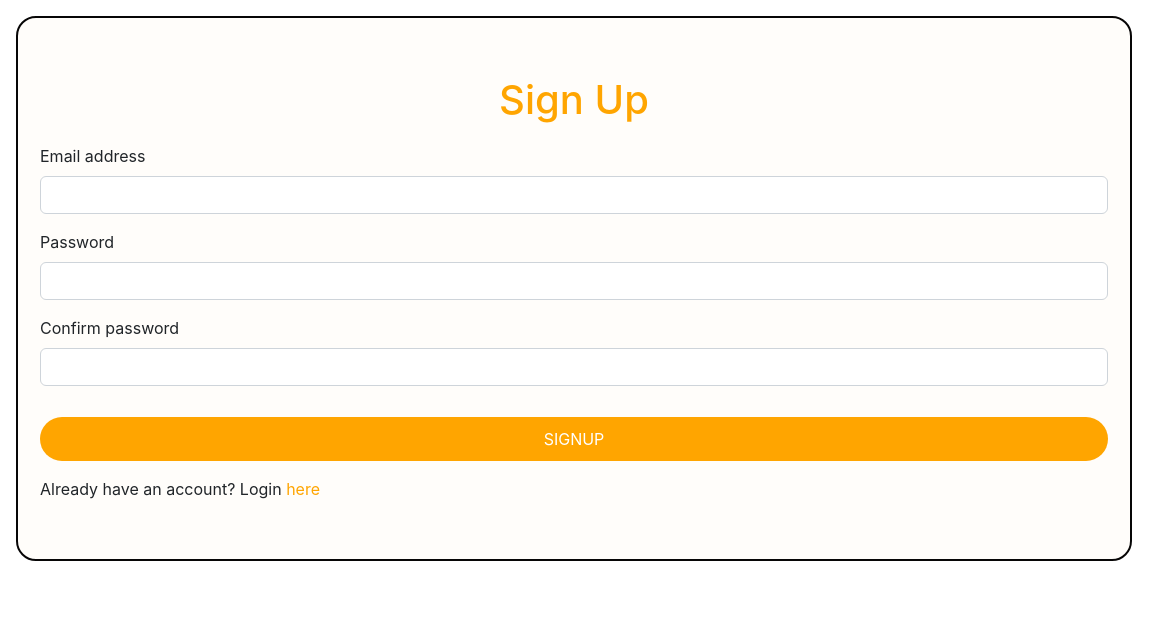
Scenario: App › Error handling › should show confirm password error when passwords dont match
Type "nael@gmail.com" into the field labelled "Email address" at {"x": 574, "y": 195}, box 40,176 -> 1108,214
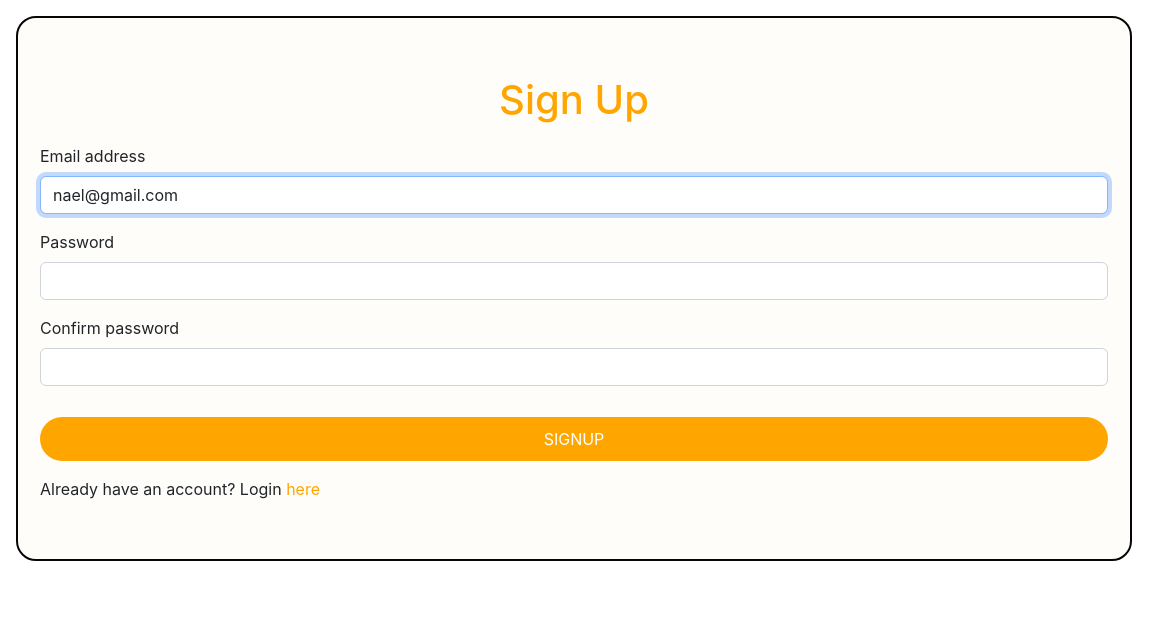
Type "12345678" into the password field labelled "Password" at {"x": 574, "y": 281}, box 40,262 -> 1108,300
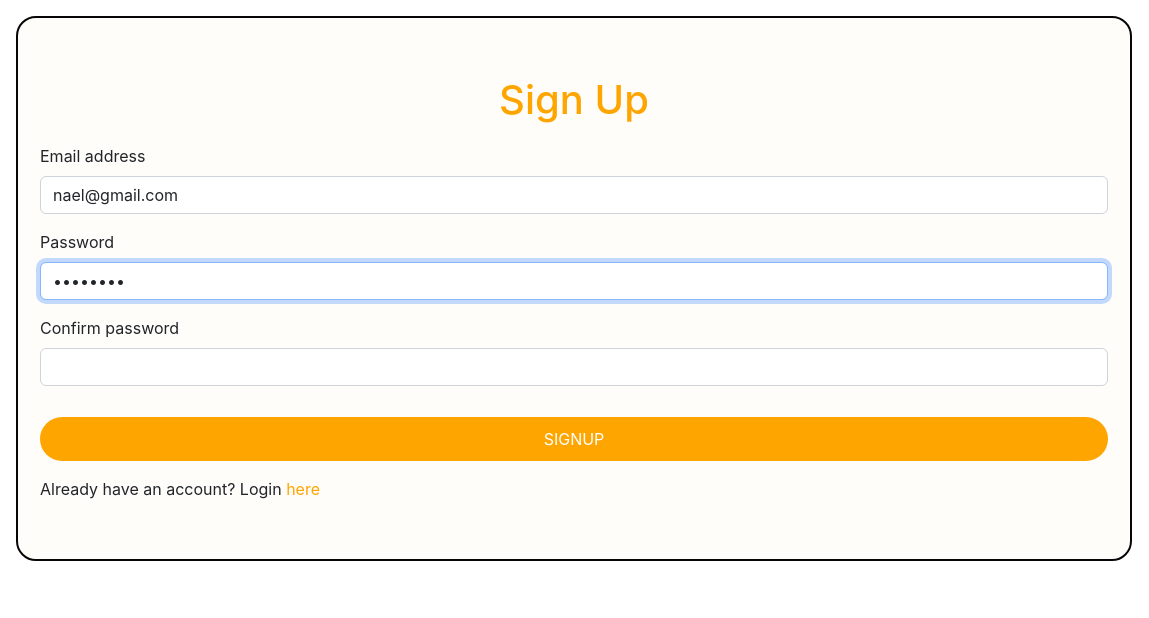
Type "12345" into the password field labelled "Confirm password" at {"x": 574, "y": 367}, box 40,348 -> 1108,386
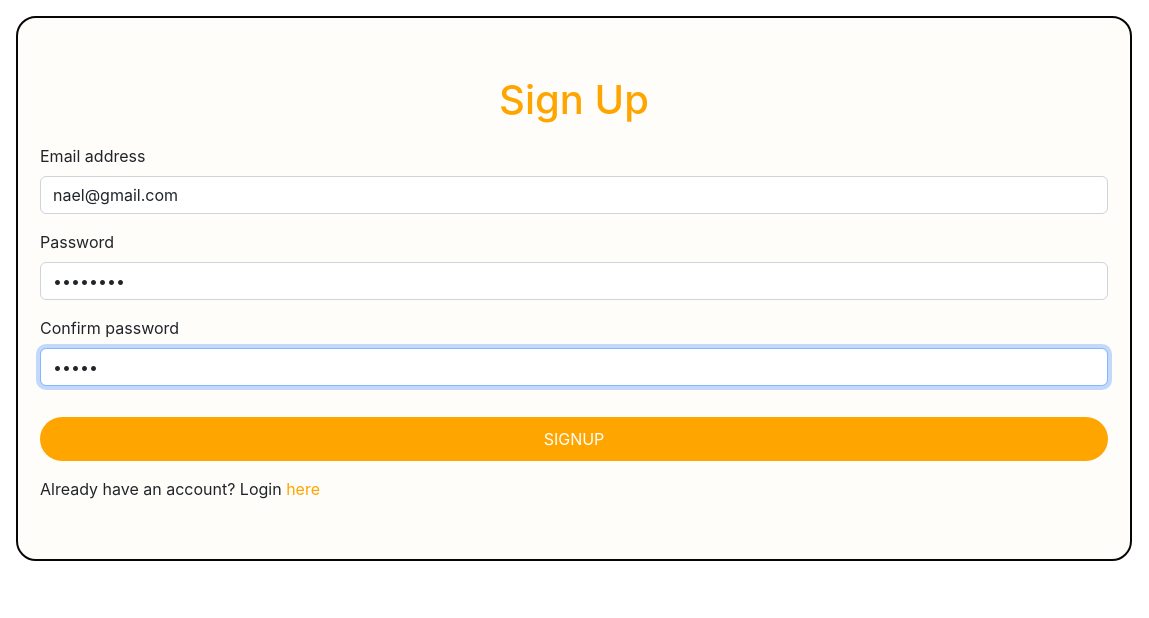
Expected: the text "the passwords don't match. try again" is not shown
Click the button "Signup" at {"x": 574, "y": 439}, box 40,417 -> 1108,461
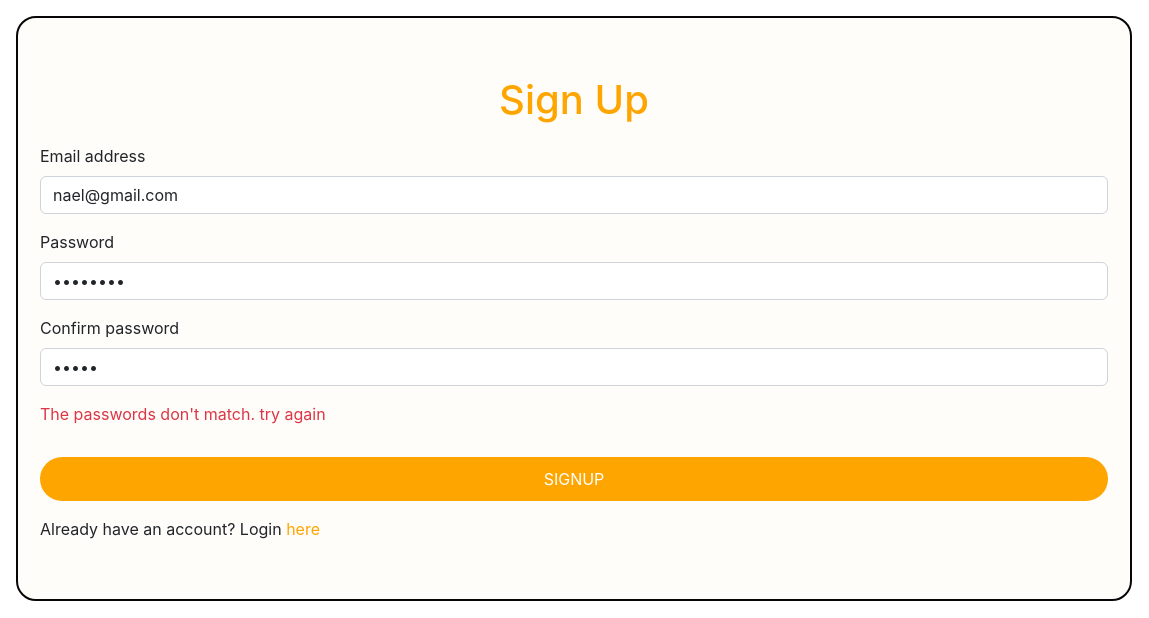
Now the text "The passwords don't match. try again" is shown, box 40,404 -> 326,424
